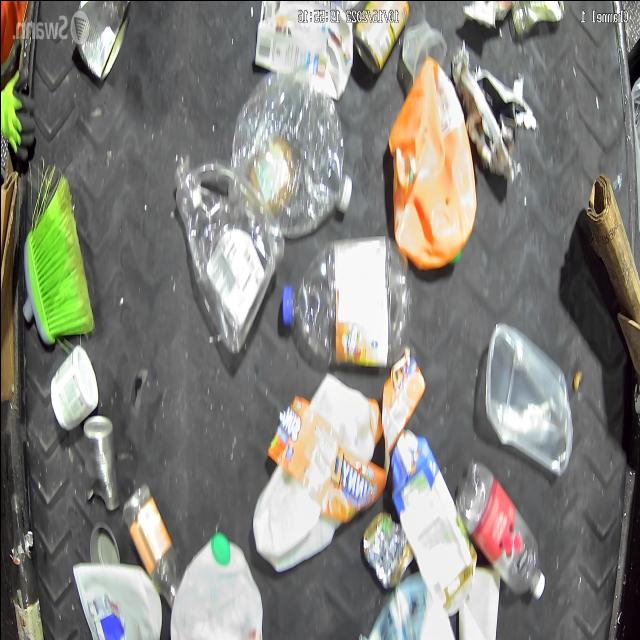can: (74, 409, 122, 513), (359, 506, 412, 598), (350, 0, 413, 76), (69, 0, 130, 75), (507, 0, 567, 37)
milk_jug: (250, 378, 381, 571), (164, 527, 269, 640), (71, 559, 162, 640)
non_white_jug: (385, 43, 475, 278)
plastic_bottle: (230, 74, 352, 242), (281, 233, 408, 381), (457, 455, 546, 601), (120, 481, 182, 626)
